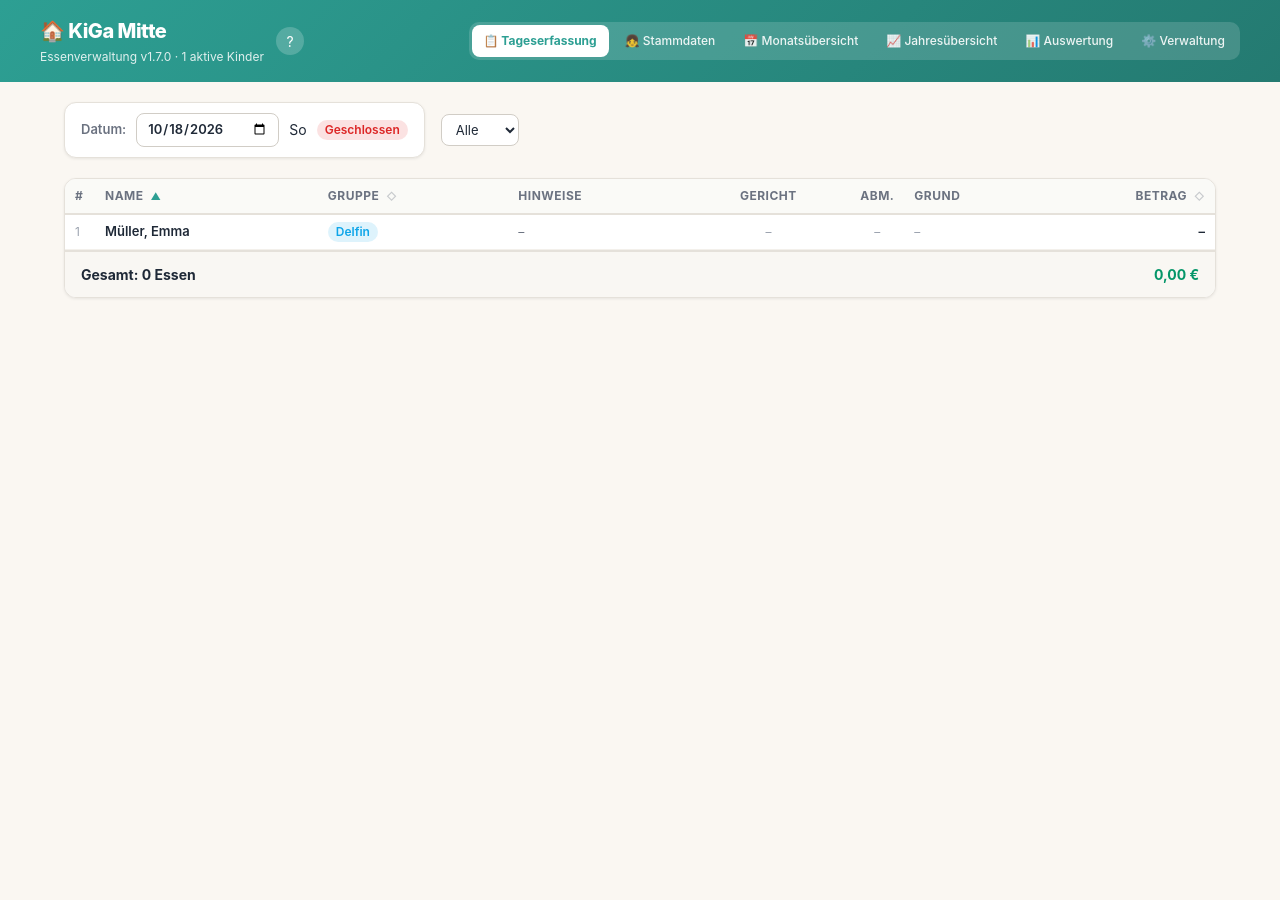
it: Administration › Testdaten-Generator: Section öffnen und Generate-Klick öffnet ConfirmDialog
Check: the text "Müller, Emma" is shown, box [95,214,318,249]
What coordinates should you click on to do the following:
click the button "⚙️ Verwaltung"
I would click on:
 (1183, 41)
Its box is [1129,25,1237,57].
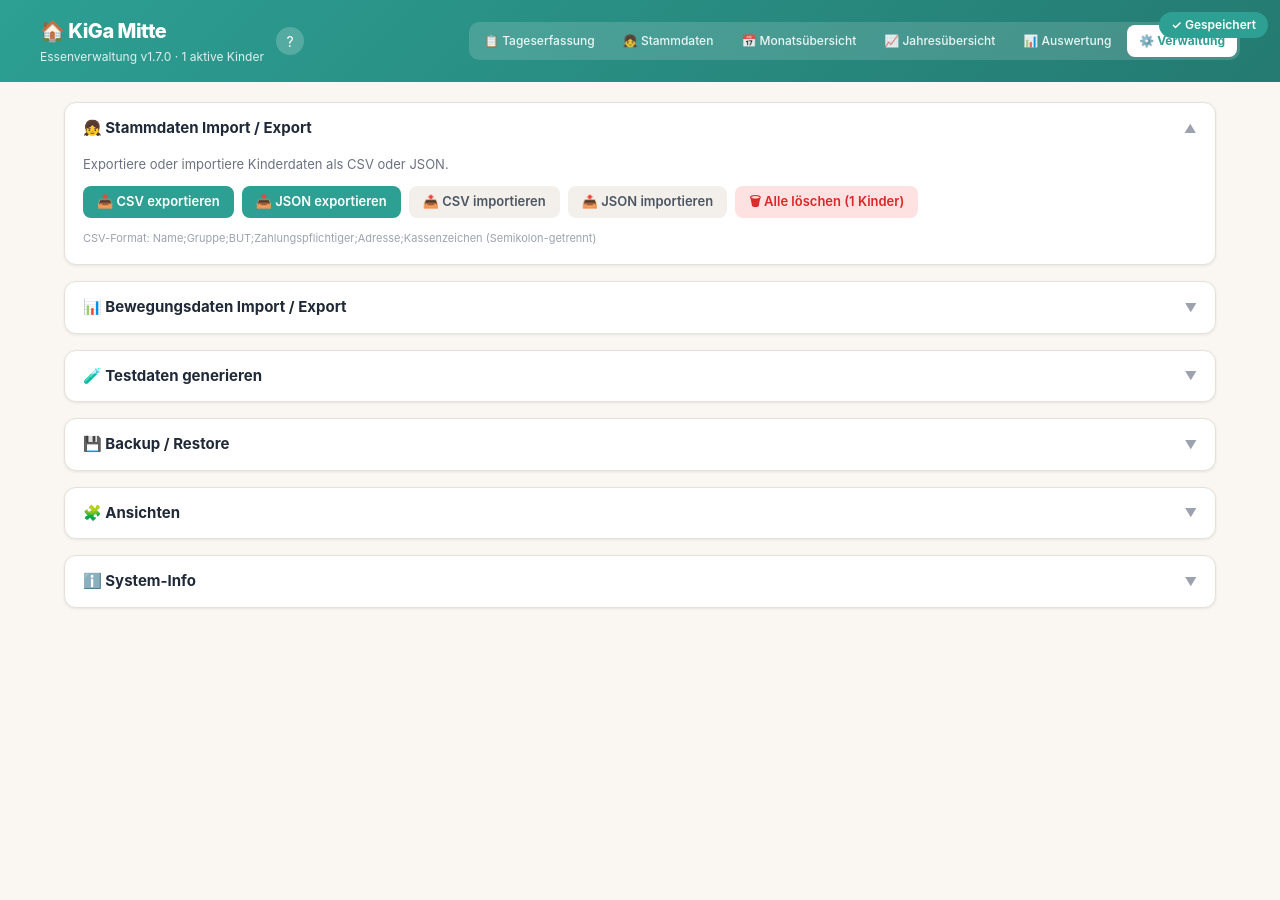
Check: the text "👧 Stammdaten Import / Export" is shown, box [83,117,312,140]
What coordinates should you click on to do the following:
click the button "🧪 Testdaten generieren ▼"
I would click on:
 (184, 375)
Its box is [65,351,1215,401].
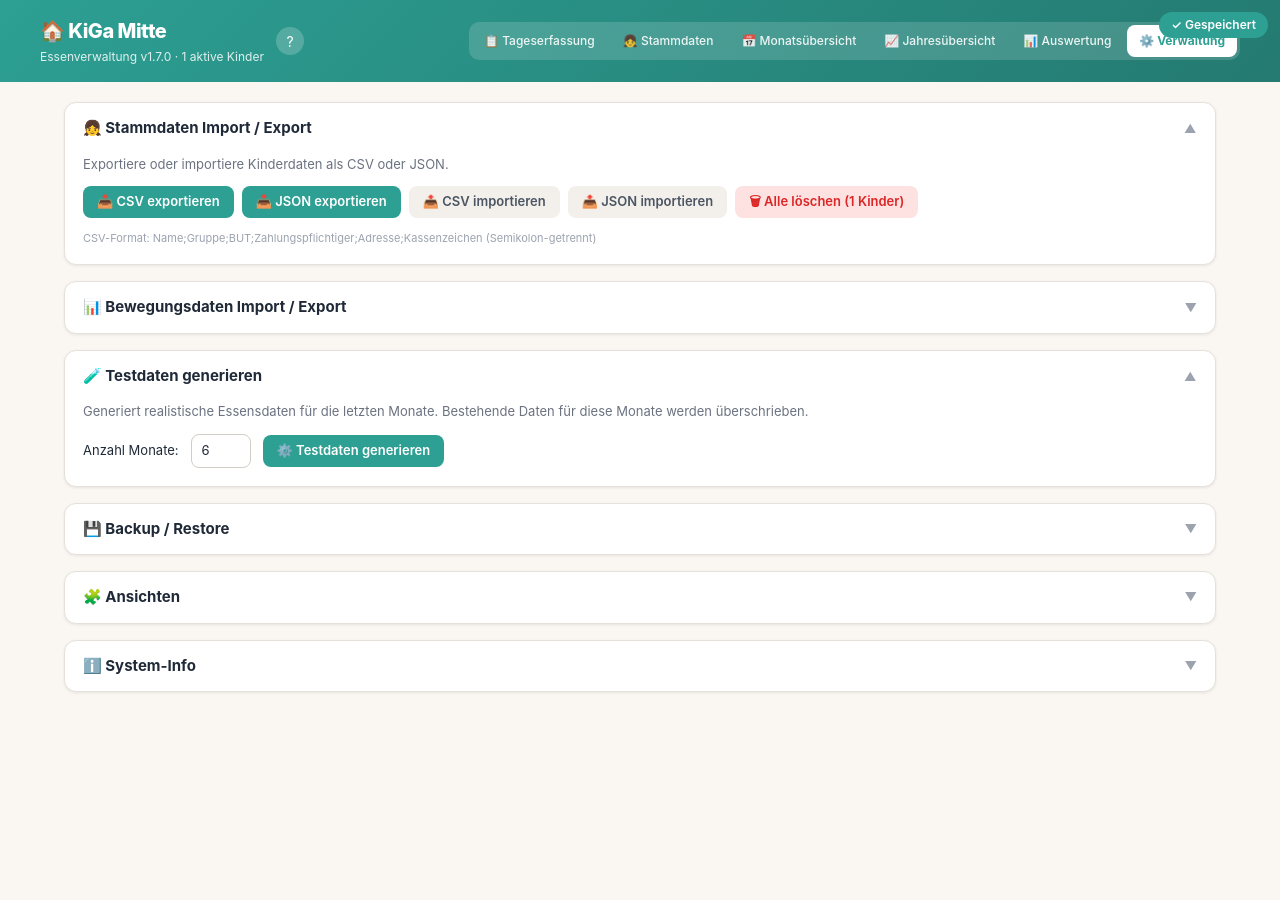
What coordinates should you click on to do the following:
click the button "⚙️ Testdaten generieren"
I would click on:
 (353, 451)
Its box is [263,435,444,467].
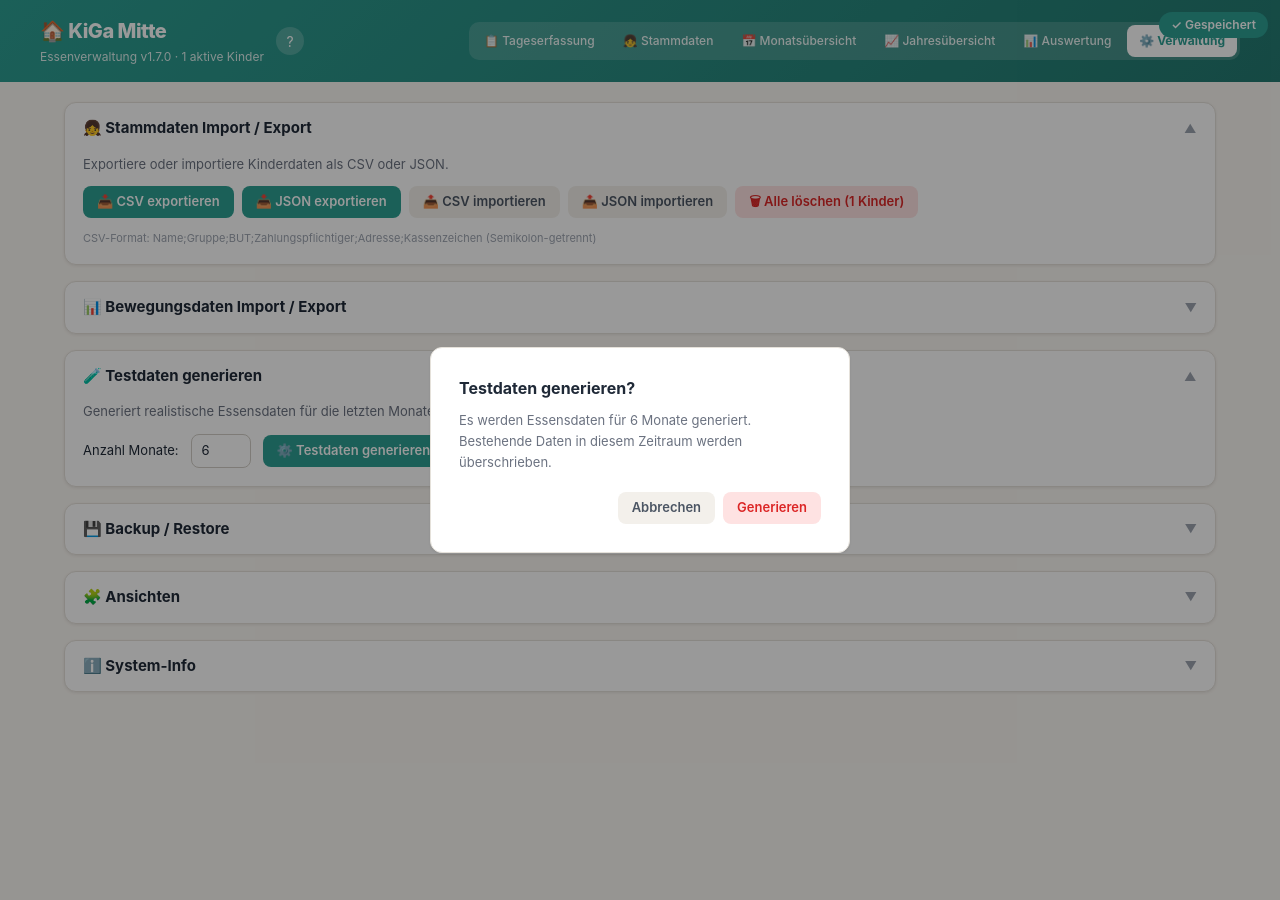
Check: the text "Testdaten generieren?" is shown, box [459,378,635,398]
